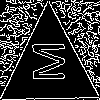M: (24, 41, 65, 83)
